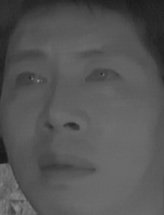eye: (11, 68, 50, 93), (85, 65, 124, 89)
mouth: (34, 147, 97, 191)
